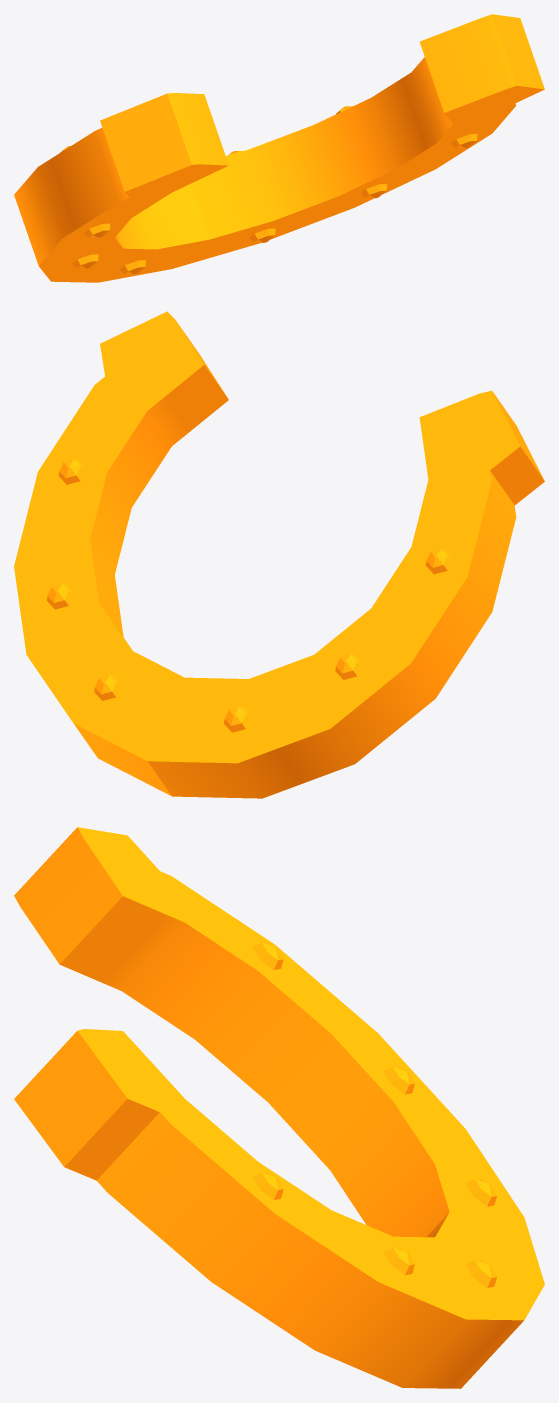
Rendered from BI_Horseshoe.fbx.
The picture shows the model from 3 angles, top to bottom: view 1: azimuth 30°, elevation 25°; view 2: azimuth 150°, elevation 25°; view 3: azimuth 270°, elevation 25°; orthographic projection. The views are drawn at different scales.
Visible parts, largest first — view 1: HorseShoe; view 2: HorseShoe; view 3: HorseShoe.
Boxes of the visible parts, x1,y1,x2,y2 form: HorseShoe: (14,14,544,282); HorseShoe: (14,311,544,798); HorseShoe: (14,827,544,1388).
Size of the model in its own units: 1.29 by 0.9486 by 1.08.
